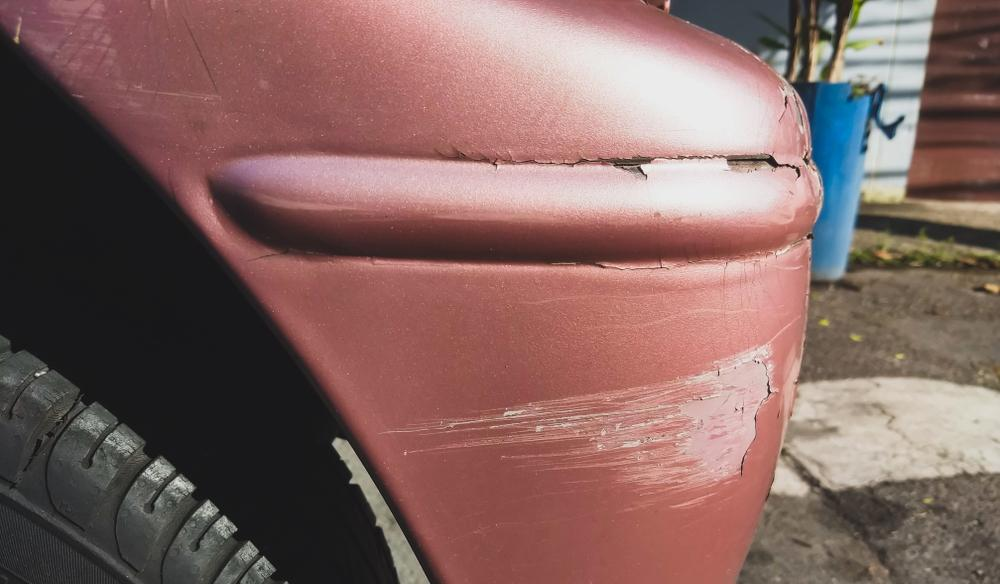scratch: (386, 339, 779, 511)
